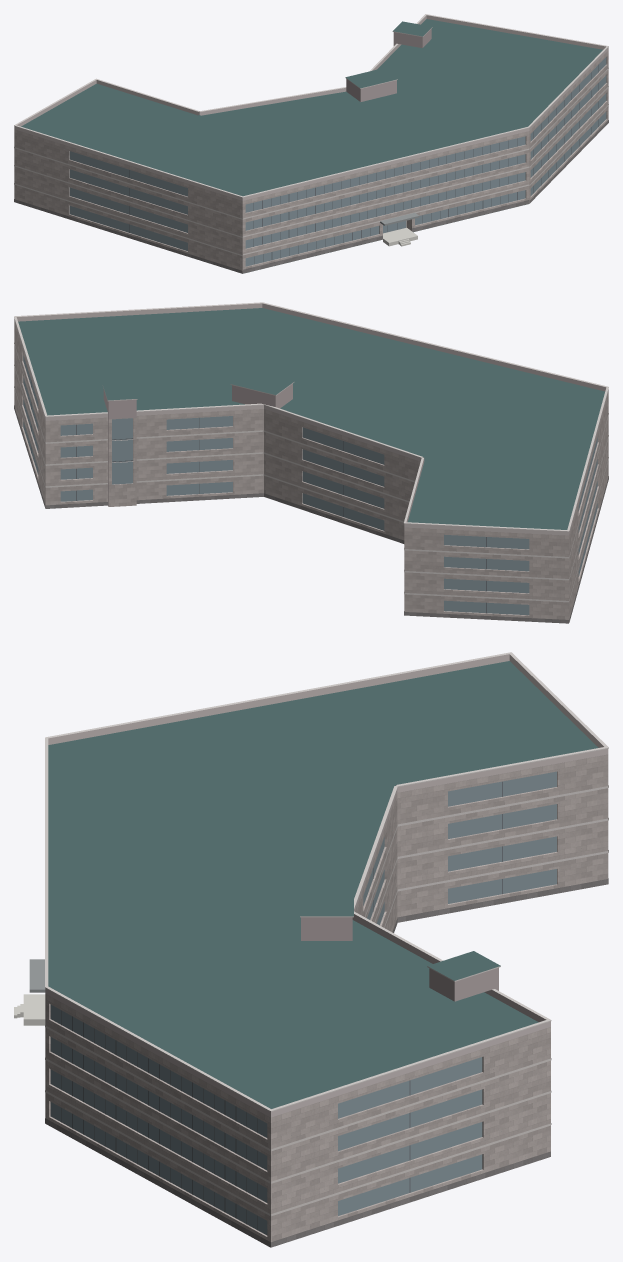
The picture shows the model from 3 angles, top to bottom: view 1: azimuth 30°, elevation 25°; view 2: azimuth 150°, elevation 25°; view 3: azimuth 270°, elevation 25°; orthographic projection. The views are drawn at different scales.
Visible parts, largest first — view 1: b940__roof, b940__wall, b940__glass, b940__trim, b940__parapet, b940__base, b940__frame, b940__wall2, b940__entranceStair; view 2: b940__roof, b940__wall, b940__glass, b940__trim, b940__parapet, b940__base, b940__wall2; view 3: b940__roof, b940__wall, b940__glass, b940__trim, b940__parapet, b940__base, b940__wall2, b940__frame, b940__entranceStair.
Boxes of the visible parts, x1,y1,x2,y2 form: b940__roof: (21, 19, 602, 272); b940__wall: (14, 50, 608, 272); b940__glass: (69, 57, 606, 266); b940__trim: (14, 14, 608, 256); b940__parapet: (14, 15, 608, 200); b940__base: (14, 120, 608, 273); b940__frame: (129, 64, 598, 264); b940__wall2: (346, 29, 431, 101); b940__entranceStair: (383, 228, 417, 246); b940__roof: (18, 308, 604, 529); b940__wall: (14, 321, 608, 622); b940__glass: (23, 355, 597, 615); b940__trim: (14, 302, 608, 602); b940__parapet: (14, 303, 608, 535); b940__base: (14, 405, 608, 623); b940__wall2: (103, 383, 292, 506); b940__roof: (48, 661, 598, 1108); b940__wall: (45, 754, 608, 1247); b940__glass: (50, 771, 556, 1235); b940__trim: (45, 652, 608, 1215); b940__parapet: (45, 654, 608, 1117); b940__base: (45, 878, 608, 1247); b940__wall2: (301, 917, 498, 1001); b940__frame: (61, 781, 502, 1230); b940__entranceStair: (14, 994, 45, 1025).
Bounding box in the file's own units: 109 × 18.13 × 59.81.
11 materials, 2 textured.
